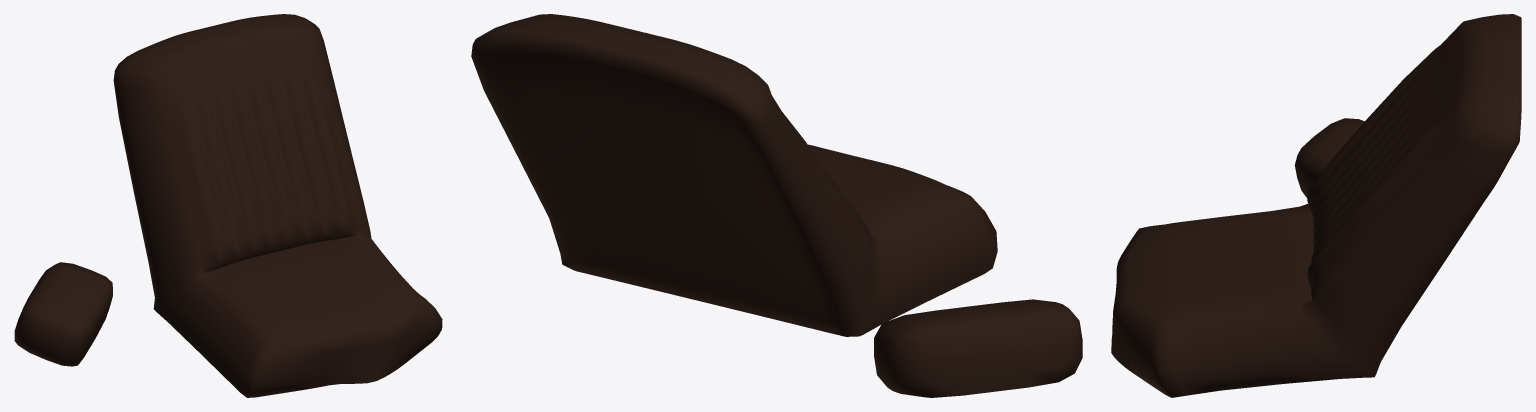
The model's file is seat2.fbx.
3 renders of one model, left to right at view 1: azimuth 30°, elevation 25°; view 2: azimuth 150°, elevation 25°; view 3: azimuth 270°, elevation 25°, orthographic. The views are drawn at different scales.
Parts seen in each view (by area): view 1: seat2; view 2: seat2; view 3: seat2.
Part boxes in pixels (x1,y1,x2,y2): seat2: (14,14,442,397); seat2: (471,14,1082,397); seat2: (1111,14,1521,397).
Bounding box in the file's own units: 58.6 × 36.89 × 45.96.
